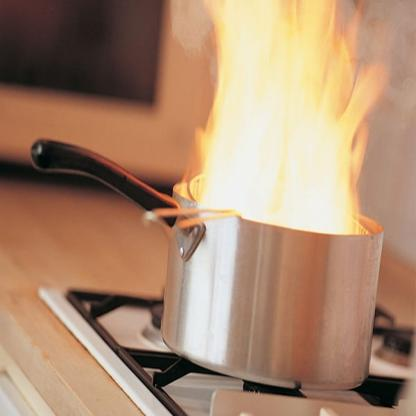fire: (179, 2, 388, 246)
